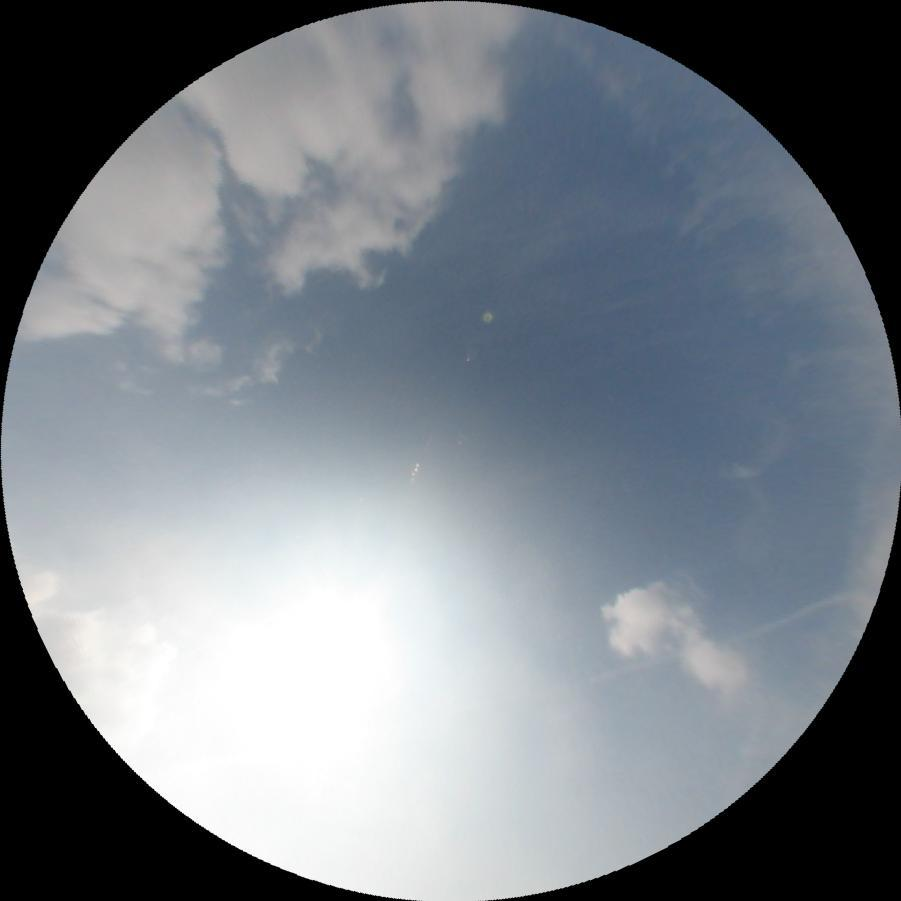contrail old: (594, 587, 857, 694)
sun: (145, 562, 456, 846)
